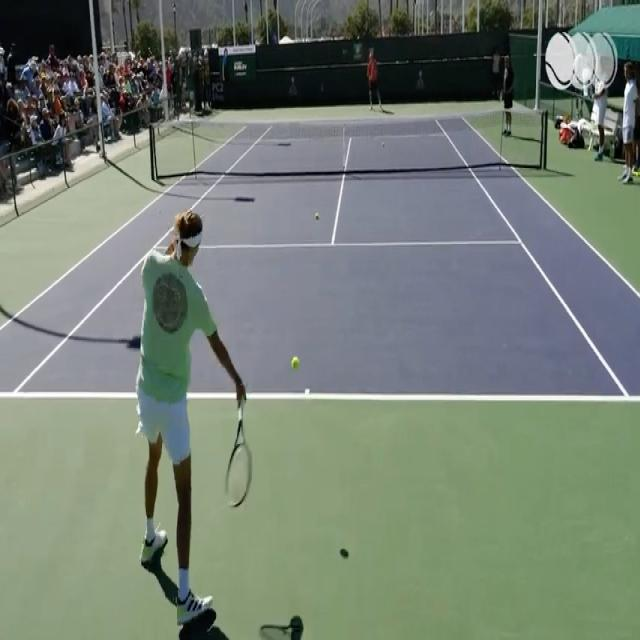forehand-stroke: (124, 206, 253, 638)
